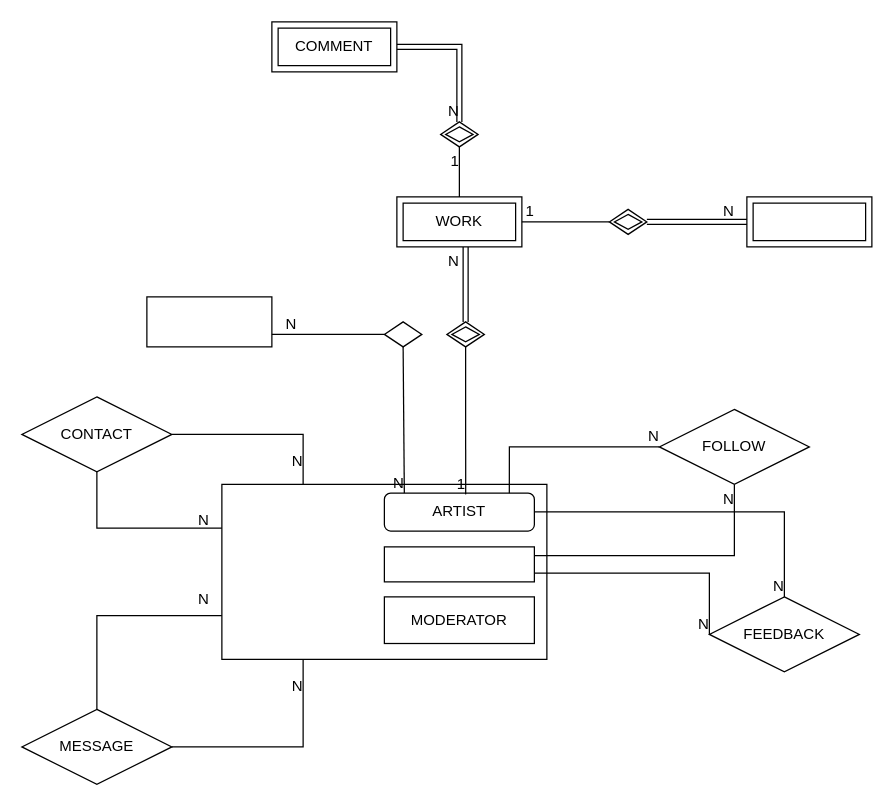
This 894x806 diagram has some shape labels left out. The shapes that lost their labels are listed below. From the top down, each one's box as (x1, y1, x2, y2) in pixels, then its label:
(746, 196, 872, 247): IMAGE
(146, 296, 272, 347): TAG
(221, 483, 384, 659): USER
(383, 546, 534, 582): CLIENT
